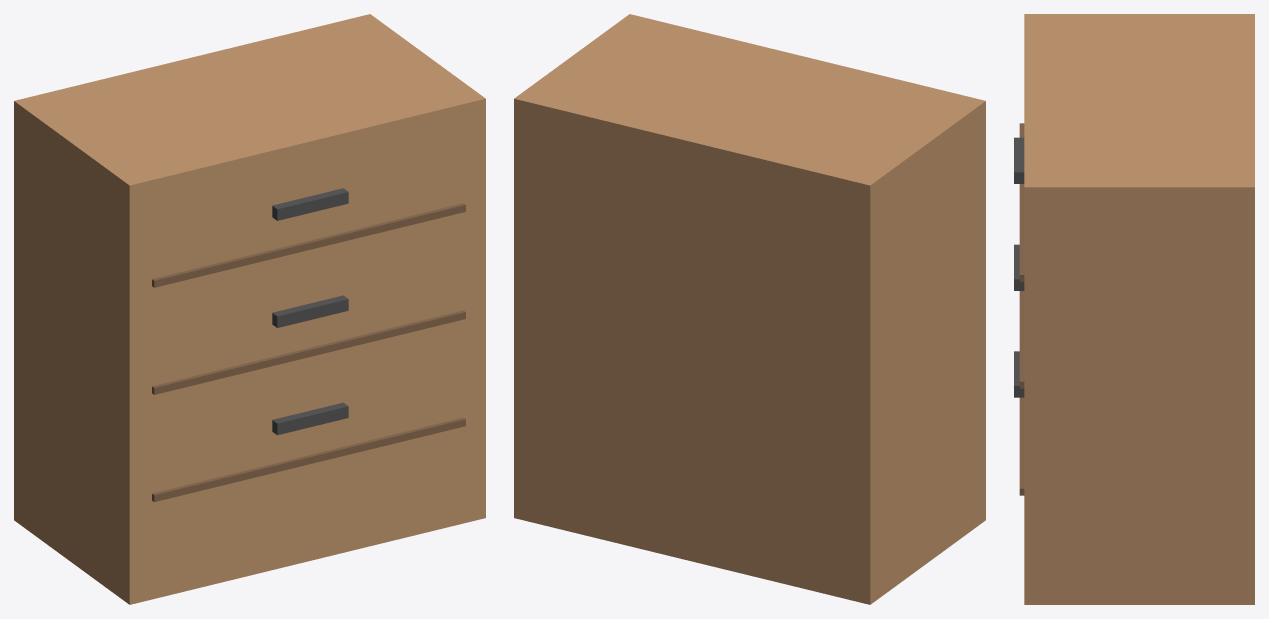
File: dresser.glb
3 views of the same model, side by side, from view 1: azimuth 30°, elevation 25°; view 2: azimuth 150°, elevation 25°; view 3: azimuth 270°, elevation 25° (orthographic).
Parts seen in each view (by area): view 1: furniture; view 2: furniture; view 3: furniture.
Boxes of the visible parts, x1,y1,x2,y2 form: furniture: (14, 14, 485, 604); furniture: (514, 14, 985, 604); furniture: (1014, 14, 1254, 604).
Bounding box in the file's own units: 0.8 × 0.9 × 0.47.
